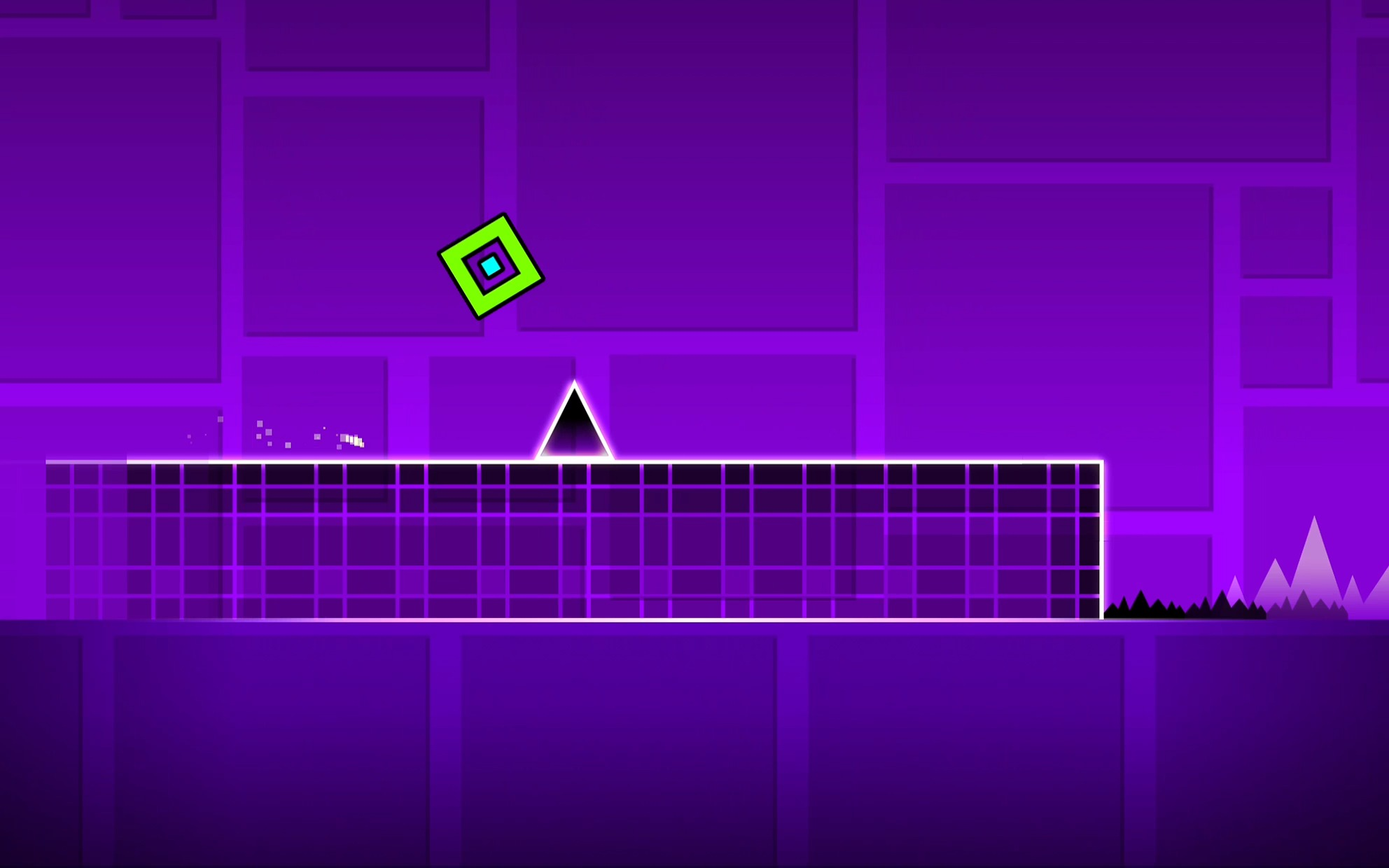Block2: (33, 457, 1098, 612)
Player: (439, 214, 543, 317)
Spike: (536, 381, 613, 458)
Spike3: (1103, 573, 1389, 622)
